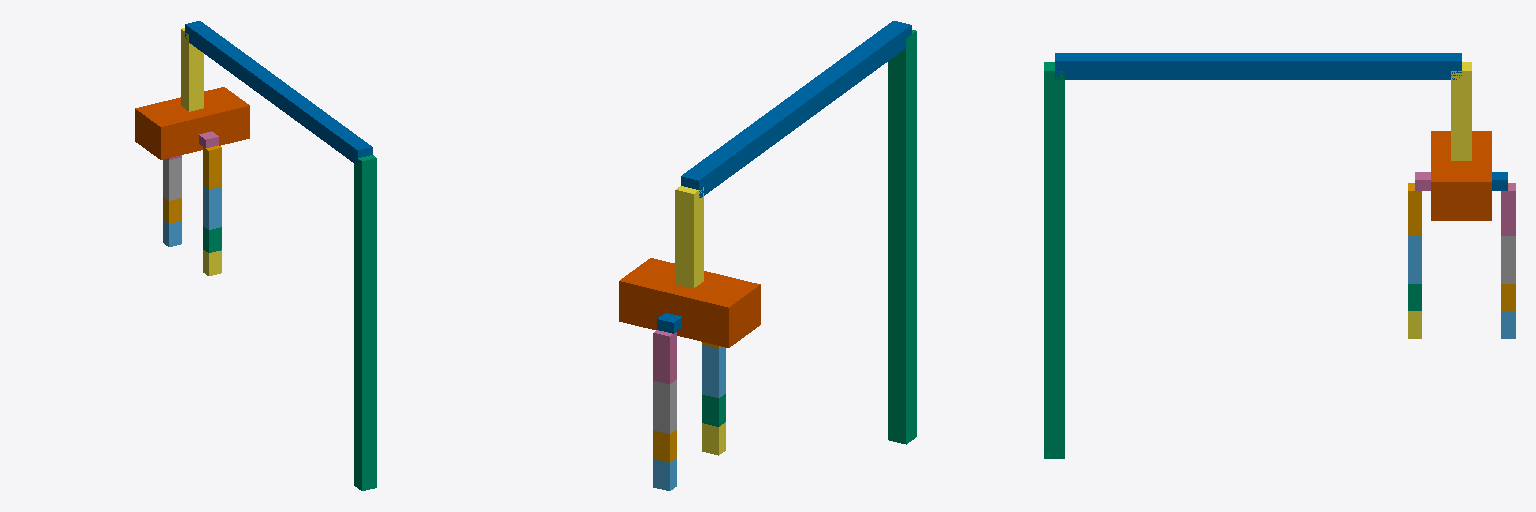
URDF robot description (body):
<?xml version="1.0" ?>
<!-- =================================================================================== -->
<!-- |    This document was autogenerated by xacro from experiment.xacro               | -->
<!-- |    EDITING THIS FILE BY HAND IS NOT RECOMMENDED                                 | -->
<!-- =================================================================================== -->
<robot name="body" xmlns:xacro="http://www.ros.org/wiki/xacro">
  <!-- ROS Control -->
  <!-- For Effort controllers -->
  <!-- For Position controllers -->
  <gazebo>
    <plugin filename="libgazebo_ros_control.so" name="ros_control">
      </plugin>
  </gazebo>
  <link name="world"/>
  <joint name="fixed" type="fixed">
    <parent link="world"/>
    <child link="column"/>
  </joint>
  <link name="base_link"/>
  <joint name="base_link_to_body" type="fixed">
    <parent link="base_link"/>
    <child link="body"/>
  </joint>
  <joint name="column_to_beam" type="fixed">
    <parent link="column"/>
    <child link="beam"/>
    <origin rpy="0 0 0" xyz="0 0.503 0.53"/>
  </joint>
  <joint name="beam_to_support" type="fixed">
    <parent link="beam"/>
    <child link="support"/>
    <origin rpy="0 0 0" xyz="0 0.503 -0.15"/>
  </joint>
  <joint name="support_to_base_link" type="fixed">
    <parent link="support"/>
    <child link="base_link"/>
    <origin rpy="0 0 0" xyz="0 0 -0.15"/>
  </joint>
  <link name="column">
    <inertial>
      <origin xyz="-0.003053 -0.038651 -0.019268"/>
      <mass value="0.97559947"/>
      <inertia ixx="3.1081800" ixy="-0.25460189" ixz="2.0318174" iyy="6.3787776" iyz="0.16417863" izz="5.3316425"/>
    </inertial>
    <visual>
      <!--origin xyz="-0.0235 0 -0.03525" rpy="0 0 0" /-->
      <origin rpy="0 0 0" xyz="0 0 0"/>
      <geometry>
        <box size="0.05 0.05 1.06"/>
      </geometry>
    </visual>
    <collision>
      <geometry>
        <box size="0.05 0.05 1.06"/>
      </geometry>
    </collision>
  </link>
  <link name="support">
    <inertial>
      <origin xyz="-0.003053 -0.038651 -0.019268"/>
      <mass value="0.97559947"/>
      <inertia ixx="3.1081800" ixy="-0.25460189" ixz="2.0318174" iyy="6.3787776" iyz="0.16417863" izz="5.3316425"/>
    </inertial>
    <visual>
      <origin rpy="0 0 0" xyz="0 0 0"/>
      <geometry>
        <box size="0.05 0.05 0.3"/>
      </geometry>
    </visual>
    <collision>
      <geometry>
        <box size="0.05 0.05 0.3"/>
      </geometry>
    </collision>
  </link>
  <link name="beam">
    <inertial>
      <origin xyz="-0.003053 -0.038651 -0.019268"/>
      <mass value="0.97559947"/>
      <inertia ixx="3.1081800" ixy="-0.25460189" ixz="2.0318174" iyy="6.3787776" iyz="0.16417863" izz="5.3316425"/>
    </inertial>
    <visual>
      <!--origin xyz="-0.0235 0 -0.03525" rpy="0 0 0" /-->
      <origin rpy="0 0 0" xyz="0 0 0"/>
      <geometry>
        <box size="0.05 1.006 0.05 "/>
      </geometry>
    </visual>
    <collision>
      <geometry>
        <box size="0.05 1.006 0.05 "/>
      </geometry>
    </collision>
  </link>
  <link name="body">
    <inertial>
      <origin xyz="-0.003053 -0.038651 -0.019268"/>
      <mass value="0.97559947"/>
      <inertia ixx="3.1081800" ixy="-0.25460189" ixz="2.0318174" iyy="6.3787776" iyz="0.16417863" izz="5.3316425"/>
    </inertial>
    <visual>
      <!--origin xyz="-0.0235 0 -0.03525" rpy="0 0 0" /-->
      <origin rpy="0 0 0" xyz="0 0 0"/>
      <geometry>
        <box size="0.3 0.15 0.106"/>
      </geometry>
    </visual>
    <collision>
      <geometry>
        <box size="0.3 0.15 0.106"/>
      </geometry>
    </collision>
  </link>
  <!-- Arm -->
  <!--xacro:property name="body_height" value="0.106" /-->
  <!--xacro:property name="body_width" value="0.109" /-->
  <!--xacro:property name="body_large" value="0.102" /-->
  <!-- Left Arm -->
  <!-- Transmissions -->
  <transmission name="l_pelvis_joint_transmission">
    <type>transmission_interface/SimpleTransmission</type>
    <joint name="l_pelvis_joint">
      <hardwareInterface>EffortJointInterface</hardwareInterface>
    </joint>
    <actuator name="l_pelvis_joint_motor">
      <hardwareInterface>EffortJointInterface</hardwareInterface>
      <mechanicalReduction>1</mechanicalReduction>
    </actuator>
  </transmission>
  <transmission name="l_thigh_yaw_joint_transmission">
    <type>transmission_interface/SimpleTransmission</type>
    <joint name="l_thigh_yaw_joint">
      <hardwareInterface>EffortJointInterface</hardwareInterface>
    </joint>
    <actuator name="l_thigh_yaw_joint_motor">
      <hardwareInterface>EffortJointInterface</hardwareInterface>
      <mechanicalReduction>1</mechanicalReduction>
    </actuator>
  </transmission>
  <transmission name="l_thigh_pitch_joint_transmission">
    <type>transmission_interface/SimpleTransmission</type>
    <joint name="l_thigh_pitch_joint">
      <hardwareInterface>EffortJointInterface</hardwareInterface>
    </joint>
    <actuator name="l_thigh_pitch_joint_motor">
      <hardwareInterface>EffortJointInterface</hardwareInterface>
      <mechanicalReduction>1</mechanicalReduction>
    </actuator>
  </transmission>
  <transmission name="l_tibia_joint_transmission">
    <type>transmission_interface/SimpleTransmission</type>
    <joint name="l_tibia_joint">
      <hardwareInterface>EffortJointInterface</hardwareInterface>
    </joint>
    <actuator name="l_tibia_joint_motor">
      <hardwareInterface>EffortJointInterface</hardwareInterface>
      <mechanicalReduction>1</mechanicalReduction>
    </actuator>
  </transmission>
  <transmission name="l_ankle_joint_transmission">
    <type>transmission_interface/SimpleTransmission</type>
    <joint name="l_ankle_joint">
      <hardwareInterface>EffortJointInterface</hardwareInterface>
    </joint>
    <actuator name="l_ankle_joint_motor">
      <hardwareInterface>EffortJointInterface</hardwareInterface>
      <mechanicalReduction>1</mechanicalReduction>
    </actuator>
  </transmission>
  <transmission name="l_phalange_joint_transmission">
    <type>transmission_interface/SimpleTransmission</type>
    <joint name="l_phalange_joint">
      <hardwareInterface>EffortJointInterface</hardwareInterface>
    </joint>
    <actuator name="l_phalange_joint_motor">
      <hardwareInterface>EffortJointInterface</hardwareInterface>
      <mechanicalReduction>1</mechanicalReduction>
    </actuator>
  </transmission>
  <link name="l_pelvis">
    <inertial>
      <origin xyz="0.000000 0.000480 0.018437"/>
      <mass value="0.167"/>
      <inertia ixx="0.12259691" ixy="0.00071127469" ixz="0.00081143913" iyx="0.00071127469" iyy="0.11066637" iyz="-0.0071635476" izx="0.00081143913" izy="-0.0071635476" izz="0.041877668"/>
    </inertial>
    <visual>
      <origin rpy="0 0 0" xyz="0 0 -0.014326"/>
      <geometry>
        <box size="0.045 0.08175 0.028652"/>
      </geometry>
    </visual>
    <collision>
      <origin rpy="0 0 0" xyz="0 0 -0.014326"/>
      <geometry>
        <box size="0.045 0.08175 0.028652"/>
      </geometry>
    </collision>
  </link>
  <link name="l_thigh_yaw">
    <inertial>
      <origin xyz="0.000079 0.018242 0.013873"/>
      <mass value="0.11904336"/>
      <inertia ixx="0.097950272" ixy="0.0012119368" ixz="-0.00021223016" iyx="0.00122119368" iyy="0.032848287" iyz="-0.0019474021" izx="-0.00021223016" izy="-0.0019474021" izz="0.11493509"/>
    </inertial>
    <visual>
      <origin rpy="0 0 0" xyz="0 0 0"/>
      <geometry>
        <box size="0.001 0.001 0.001"/>
      </geometry>
    </visual>
    <collision>
      <geometry>
        <box size="0.001 0.001 0.001"/>
      </geometry>
    </collision>
  </link>
  <link name="l_thigh">
    <inertial>
      <origin xyz="-0.062965 -0.000323 0.000692"/>
      <mass value="0.11904336"/>
      <inertia ixx="0.097950272" ixy="0.0012119368" ixz="-0.00021223016" iyx="0.00122119368" iyy="0.032848287" iyz="-0.0019474021" izx="-0.00021223016" izy="-0.0019474021" izz="0.11493509"/>
    </inertial>
    <visual>
      <origin rpy="0 0 0" xyz="0 0 -0.0625"/>
      <geometry>
        <box size="0.045 0.035 0.125"/>
      </geometry>
    </visual>
    <collision>
      <origin rpy="0 0 0" xyz="0 0 -0.0625"/>
      <geometry>
        <box size="0.045 0.035 0.125"/>
      </geometry>
    </collision>
  </link>
  <link name="l_tibia">
    <inertial>
      <origin xyz="-0.053955 0.006548 -0.000592"/>
      <mass value="0.070309794"/>
      <inertia ixx="0.093369608" ixy="-0.00093567395" ixz="-0.00023992085" iyx="-0.00093567395" iyy="0.046295534" iyz="-0.012858493" izx="-0.00023992085" izy="-0.012858493" izz="0.11351516"/>
    </inertial>
    <visual>
      <origin rpy="0 0 0" xyz="0 0 -0.065"/>
      <geometry>
        <box size="0.045 0.035 0.13"/>
      </geometry>
    </visual>
    <collision>
      <origin rpy="0 0 0" xyz="0 0 -0.065"/>
      <geometry>
        <box size="0.045 0.035 0.13"/>
      </geometry>
    </collision>
  </link>
  <link name="l_ankle">
    <inertial>
      <origin xyz="-0.000214 -0.018536 0.013873"/>
      <mass value="0.16710792"/>
      <inertia ixx="0.12079175" ixy="-0.00079781067" ixz="-0.00039322246" iyx="-0.00079781067" iyy="0.10885465" iyz="0.0070770117" izx="-0.00039322246" izy="0.0070770117" izz="0.041871103"/>
    </inertial>
    <visual>
      <origin rpy="0 0 0" xyz="0 0 -0.03725"/>
      <geometry>
        <box size="0.045 0.035 0.0745"/>
      </geometry>
    </visual>
    <collision>
      <origin rpy="0 0 0" xyz="0 0 -0.03725"/>
      <geometry>
        <box size="0.045 0.035 0.0745"/>
      </geometry>
    </collision>
  </link>
  <link name="l_phalange">
    <inertial>
      <origin xyz="-0.000214 -0.018536 0.013873"/>
      <mass value="0.16710792"/>
      <inertia ixx="0.12079175" ixy="-0.00079781067" ixz="-0.00039322246" iyx="-0.00079781067" iyy="0.10885465" iyz="0.0070770117" izx="-0.00039322246" izy="0.0070770117" izz="0.041871103"/>
    </inertial>
    <visual>
      <origin rpy="0 0 0" xyz="0 0 -0.03725"/>
      <geometry>
        <box size="0.045 0.035 0.0745"/>
      </geometry>
    </visual>
    <collision>
      <geometry>
        <box size="0.045 0.035 0.0745"/>
      </geometry>
    </collision>
  </link>
  <joint name="l_pelvis_joint" type="revolute">
    <parent link="body"/>
    <child link="l_pelvis"/>
    <origin rpy="0 0 0" xyz="0 -0.075 0"/>
    <axis xyz="0 0 1"/>
    <limit effort="10" lower="-1.308996939" upper="0.785398163397" velocity="5.6548668"/>
  </joint>
  <joint name="l_thigh_yaw_joint" type="revolute">
    <parent link="l_pelvis"/>
    <child link="l_thigh_yaw"/>
    <origin rpy="0 0 0" xyz="0 -0.040875 -0.028652"/>
    <axis xyz="0 0 1"/>
    <limit effort="10" lower="-2.6179939" upper="2.6179939" velocity="5.6548668"/>
  </joint>
  <joint name="l_thigh_pitch_joint" type="revolute">
    <parent link="l_thigh_yaw"/>
    <child link="l_thigh"/>
    <origin rpy="0 0 0" xyz="0 0 0"/>
    <axis xyz="0 1 0"/>
    <limit effort="10" lower="-1.308996939" upper="0.785398163397" velocity="5.6548668"/>
  </joint>
  <joint name="l_tibia_joint" type="revolute">
    <parent link="l_thigh"/>
    <child link="l_tibia"/>
    <origin rpy="0 0 0" xyz="0 0 -0.125"/>
    <axis xyz="0 1 0"/>
    <limit effort="10" lower="0.0" upper="2.61799387799" velocity="5.6548668"/>
  </joint>
  <joint name="l_ankle_joint" type="revolute">
    <parent link="l_tibia"/>
    <child link="l_ankle"/>
    <origin rpy="0 0 0" xyz="0 0 -0.13"/>
    <axis xyz="0 1 0"/>
    <limit effort="10" lower="-1.57079632679" upper="0.0" velocity="5.6548668"/>
  </joint>
  <joint name="l_phalange_joint" type="revolute">
    <parent link="l_ankle"/>
    <child link="l_phalange"/>
    <origin rpy="0 0 0" xyz="0 0 -0.0745"/>
    <axis xyz="0 1 0"/>
    <limit effort="10" lower="-2.6179939" upper="2.6179939" velocity="5.6548668"/>
  </joint>
  <!-- Right Arm -->
  <!-- Transmissions -->
  <transmission name="r_pelvis_joint_transmission">
    <type>transmission_interface/SimpleTransmission</type>
    <joint name="r_pelvis_joint">
      <hardwareInterface>EffortJointInterface</hardwareInterface>
    </joint>
    <actuator name="r_pelvis_joint_motor">
      <hardwareInterface>EffortJointInterface</hardwareInterface>
      <mechanicalReduction>1</mechanicalReduction>
    </actuator>
  </transmission>
  <transmission name="r_thigh_yaw_joint_transmission">
    <type>transmission_interface/SimpleTransmission</type>
    <joint name="r_thigh_yaw_joint">
      <hardwareInterface>EffortJointInterface</hardwareInterface>
    </joint>
    <actuator name="r_thigh_yaw_joint_motor">
      <hardwareInterface>EffortJointInterface</hardwareInterface>
      <mechanicalReduction>1</mechanicalReduction>
    </actuator>
  </transmission>
  <transmission name="r_thigh_pitch_joint_transmission">
    <type>transmission_interface/SimpleTransmission</type>
    <joint name="r_thigh_pitch_joint">
      <hardwareInterface>EffortJointInterface</hardwareInterface>
    </joint>
    <actuator name="r_thigh_pitch_joint_motor">
      <hardwareInterface>EffortJointInterface</hardwareInterface>
      <mechanicalReduction>1</mechanicalReduction>
    </actuator>
  </transmission>
  <transmission name="r_tibia_joint_transmission">
    <type>transmission_interface/SimpleTransmission</type>
    <joint name="r_tibia_joint">
      <hardwareInterface>EffortJointInterface</hardwareInterface>
    </joint>
    <actuator name="r_tibia_joint_motor">
      <hardwareInterface>EffortJointInterface</hardwareInterface>
      <mechanicalReduction>1</mechanicalReduction>
    </actuator>
  </transmission>
  <transmission name="r_ankle_joint_transmission">
    <type>transmission_interface/SimpleTransmission</type>
    <joint name="r_ankle_joint">
      <hardwareInterface>EffortJointInterface</hardwareInterface>
    </joint>
    <actuator name="r_ankle_joint_motor">
      <hardwareInterface>EffortJointInterface</hardwareInterface>
      <mechanicalReduction>1</mechanicalReduction>
    </actuator>
  </transmission>
  <transmission name="r_phalange_joint_transmission">
    <type>transmission_interface/SimpleTransmission</type>
    <joint name="r_phalange_joint">
      <hardwareInterface>EffortJointInterface</hardwareInterface>
    </joint>
    <actuator name="r_phalange_joint_motor">
      <hardwareInterface>EffortJointInterface</hardwareInterface>
      <mechanicalReduction>1</mechanicalReduction>
    </actuator>
  </transmission>
  <link name="r_pelvis">
    <inertial>
      <origin xyz="0.000000 0.000480 0.018437"/>
      <mass value="0.167"/>
      <inertia ixx="0.12259691" ixy="0.00071127469" ixz="0.00081143913" iyx="0.00071127469" iyy="0.11066637" iyz="-0.0071635476" izx="0.00081143913" izy="-0.0071635476" izz="0.041877668"/>
    </inertial>
    <visual>
      <origin rpy="0 0 0" xyz="0 0 -0.014326"/>
      <geometry>
        <box size="0.045 0.08175 0.028652"/>
      </geometry>
    </visual>
    <collision>
      <origin rpy="0 0 0" xyz="0 0 -0.014326"/>
      <geometry>
        <box size="0.045 0.08175 0.028652"/>
      </geometry>
    </collision>
  </link>
  <link name="r_thigh_yaw">
    <inertial>
      <origin xyz="0.000079 0.018242 0.013873"/>
      <mass value="0.11904336"/>
      <inertia ixx="0.097950272" ixy="0.0012119368" ixz="-0.00021223016" iyx="0.00122119368" iyy="0.032848287" iyz="-0.0019474021" izx="-0.00021223016" izy="-0.0019474021" izz="0.11493509"/>
    </inertial>
    <visual>
      <origin rpy="0 0 0" xyz="0 0 0"/>
      <geometry>
        <box size="0.001 0.001 0.001"/>
      </geometry>
    </visual>
    <collision>
      <geometry>
        <box size="0.001 0.001 0.001"/>
      </geometry>
    </collision>
  </link>
  <link name="r_thigh">
    <inertial>
      <origin xyz="-0.062965 -0.000323 0.000692"/>
      <mass value="0.11904336"/>
      <inertia ixx="0.097950272" ixy="0.0012119368" ixz="-0.00021223016" iyx="0.00122119368" iyy="0.032848287" iyz="-0.0019474021" izx="-0.00021223016" izy="-0.0019474021" izz="0.11493509"/>
    </inertial>
    <visual>
      <origin rpy="0 0 0" xyz="0 0 -0.0625"/>
      <geometry>
        <box size="0.045 0.035 0.125"/>
      </geometry>
    </visual>
    <collision>
      <origin rpy="0 0 0" xyz="0 0 -0.0625"/>
      <geometry>
        <box size="0.045 0.035 0.125"/>
      </geometry>
    </collision>
  </link>
  <link name="r_tibia">
    <inertial>
      <origin xyz="-0.053955 0.006548 -0.000592"/>
      <mass value="0.070309794"/>
      <inertia ixx="0.093369608" ixy="-0.00093567395" ixz="-0.00023992085" iyx="-0.00093567395" iyy="0.046295534" iyz="-0.012858493" izx="-0.00023992085" izy="-0.012858493" izz="0.11351516"/>
    </inertial>
    <visual>
      <origin rpy="0 0 0" xyz="0 0 -0.065"/>
      <geometry>
        <box size="0.045 0.035 0.13"/>
      </geometry>
    </visual>
    <collision>
      <origin rpy="0 0 0" xyz="0 0 -0.065"/>
      <geometry>
        <box size="0.045 0.035 0.13"/>
      </geometry>
    </collision>
  </link>
  <link name="r_ankle">
    <inertial>
      <origin xyz="-0.000214 -0.018536 0.013873"/>
      <mass value="0.16710792"/>
      <inertia ixx="0.12079175" ixy="-0.00079781067" ixz="-0.00039322246" iyx="-0.00079781067" iyy="0.10885465" iyz="0.0070770117" izx="-0.00039322246" izy="0.0070770117" izz="0.041871103"/>
    </inertial>
    <visual>
      <origin rpy="0 0 0" xyz="0 0 -0.03725"/>
      <geometry>
        <box size="0.045 0.035 0.0745"/>
      </geometry>
    </visual>
    <collision>
      <origin rpy="0 0 0" xyz="0 0 -0.03725"/>
      <geometry>
        <box size="0.045 0.035 0.0745"/>
      </geometry>
    </collision>
  </link>
  <link name="r_phalange">
    <inertial>
      <origin xyz="-0.000214 -0.018536 0.013873"/>
      <mass value="0.16710792"/>
      <inertia ixx="0.12079175" ixy="-0.00079781067" ixz="-0.00039322246" iyx="-0.00079781067" iyy="0.10885465" iyz="0.0070770117" izx="-0.00039322246" izy="0.0070770117" izz="0.041871103"/>
    </inertial>
    <visual>
      <origin rpy="0 0 0" xyz="0 0 -0.03725"/>
      <geometry>
        <box size="0.045 0.035 0.0745"/>
      </geometry>
    </visual>
    <collision>
      <geometry>
        <box size="0.045 0.035 0.0745"/>
      </geometry>
    </collision>
  </link>
  <joint name="r_pelvis_joint" type="revolute">
    <parent link="body"/>
    <child link="r_pelvis"/>
    <origin rpy="0 0 0" xyz="0 0.075 0"/>
    <axis xyz="0 0 1"/>
    <limit effort="10" lower="-1.308996939" upper="0.785398163397" velocity="5.6548668"/>
  </joint>
  <joint name="r_thigh_yaw_joint" type="revolute">
    <parent link="r_pelvis"/>
    <child link="r_thigh_yaw"/>
    <origin rpy="0 0 0" xyz="0 0.040875 -0.028652"/>
    <axis xyz="0 0 1"/>
    <limit effort="10" lower="-2.6179939" upper="2.6179939" velocity="5.6548668"/>
  </joint>
  <joint name="r_thigh_pitch_joint" type="revolute">
    <parent link="r_thigh_yaw"/>
    <child link="r_thigh"/>
    <origin rpy="0 0 0" xyz="0 0 0"/>
    <axis xyz="0 1 0"/>
    <limit effort="10" lower="-1.308996939" upper="0.785398163397" velocity="5.6548668"/>
  </joint>
  <joint name="r_tibia_joint" type="revolute">
    <parent link="r_thigh"/>
    <child link="r_tibia"/>
    <origin rpy="0 0 0" xyz="0 0 -0.125"/>
    <axis xyz="0 1 0"/>
    <limit effort="10" lower="0.0" upper="2.61799387799" velocity="5.6548668"/>
  </joint>
  <joint name="r_ankle_joint" type="revolute">
    <parent link="r_tibia"/>
    <child link="r_ankle"/>
    <origin rpy="0 0 0" xyz="0 0 -0.13"/>
    <axis xyz="0 1 0"/>
    <limit effort="10" lower="-1.57079632679" upper="0.0" velocity="5.6548668"/>
  </joint>
  <joint name="r_phalange_joint" type="revolute">
    <parent link="r_ankle"/>
    <child link="r_phalange"/>
    <origin rpy="0 0 0" xyz="0 0 -0.0745"/>
    <axis xyz="0 1 0"/>
    <limit effort="10" lower="-2.6179939" upper="2.6179939" velocity="5.6548668"/>
  </joint>
</robot>

--- What the picture shows (computed from the rendered views, not written in the file) ---
The picture shows the robot from 3 angles, left to right: view 1: azimuth 30°, elevation 25°; view 2: azimuth 150°, elevation 25°; view 3: azimuth 270°, elevation 25°; orthographic projection.
Model body with 18 links and 17 joints (12 revolute, 5 fixed), rooted at world, posed every joint at zero.
Visible links, largest first — view 1: column, body, beam, support, l_thigh, l_tibia, r_tibia; view 2: column, body, beam, support, r_thigh, r_tibia, l_tibia, l_ankle, r_phalange, l_phalange, r_ankle; view 3: beam, column, body, support, r_thigh, r_tibia, l_thigh, l_tibia.
Boxes of the visible links, x1,y1,x2,y2 form: column: (354,155,376,490); body: (135,87,249,159); beam: (185,21,372,165); support: (181,28,203,111); l_thigh: (203,145,221,189); l_tibia: (203,186,221,229); r_tibia: (163,158,181,200); column: (888,30,916,444); body: (619,258,760,347); beam: (681,21,911,197); support: (675,186,703,288); r_thigh: (653,330,676,383); r_tibia: (653,380,676,433); l_tibia: (702,345,725,397); l_ankle: (702,394,725,426); r_phalange: (653,458,676,490); l_phalange: (702,422,725,455); r_ankle: (653,430,676,462); beam: (1055,53,1461,79); column: (1044,62,1064,458); body: (1431,131,1491,220); support: (1451,62,1471,160); r_thigh: (1501,183,1515,235); r_tibia: (1501,236,1515,283); l_thigh: (1408,183,1421,235); l_tibia: (1408,236,1421,283).
Size in the robot's own frame: 0.3 by 1.16 by 1.08 metres.
Geometry: primitives only (box / cylinder / sphere), no mesh files.